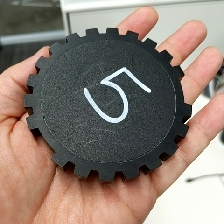gear: (22, 26, 193, 185)
missing: (25, 111, 70, 170), (169, 64, 193, 119)
